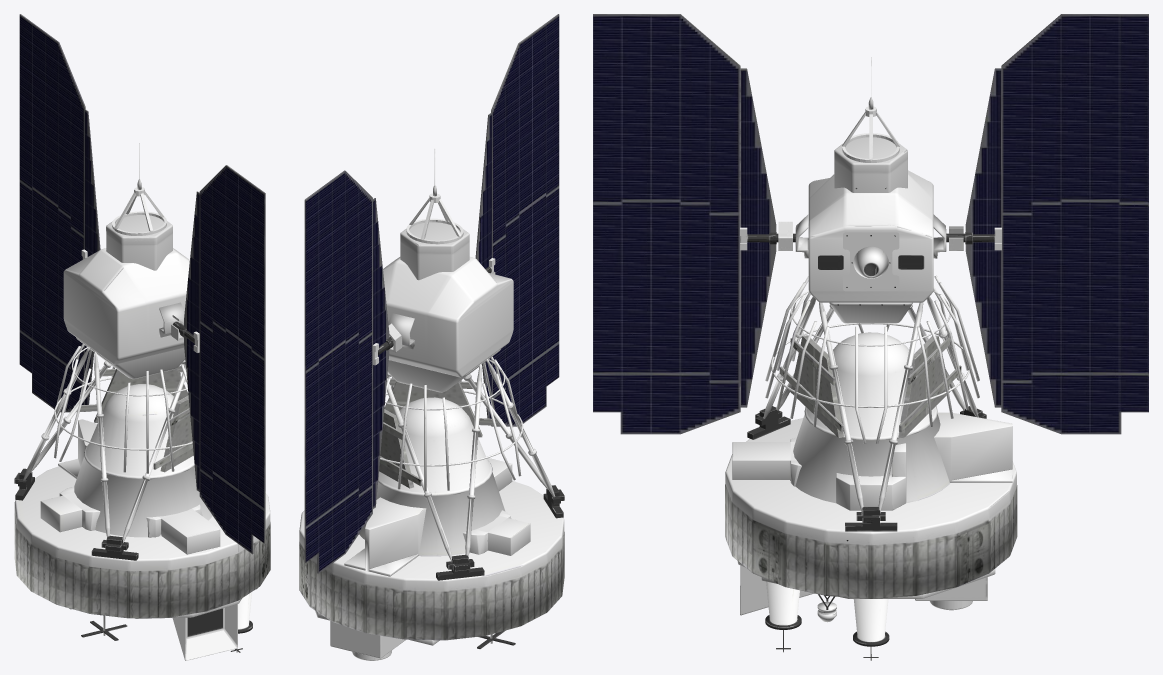
File: Landsat_1-3.glb
The picture shows the model from 3 angles, left to right: view 1: azimuth 30°, elevation 25°; view 2: azimuth 150°, elevation 25°; view 3: azimuth 270°, elevation 25°; orthographic projection. The views are drawn at different scales.
Visible parts, largest first — view 1: L1_Baked; view 2: L1_Baked; view 3: L1_Baked.
Part boxes in pixels (x1,y1,x2,y2): L1_Baked: [14, 14, 270, 660]; L1_Baked: [299, 14, 564, 660]; L1_Baked: [593, 14, 1148, 660].
Size of the model in its own units: 2.02 by 4.58 by 3.81.
Materials: 1 (1 with a texture image).
